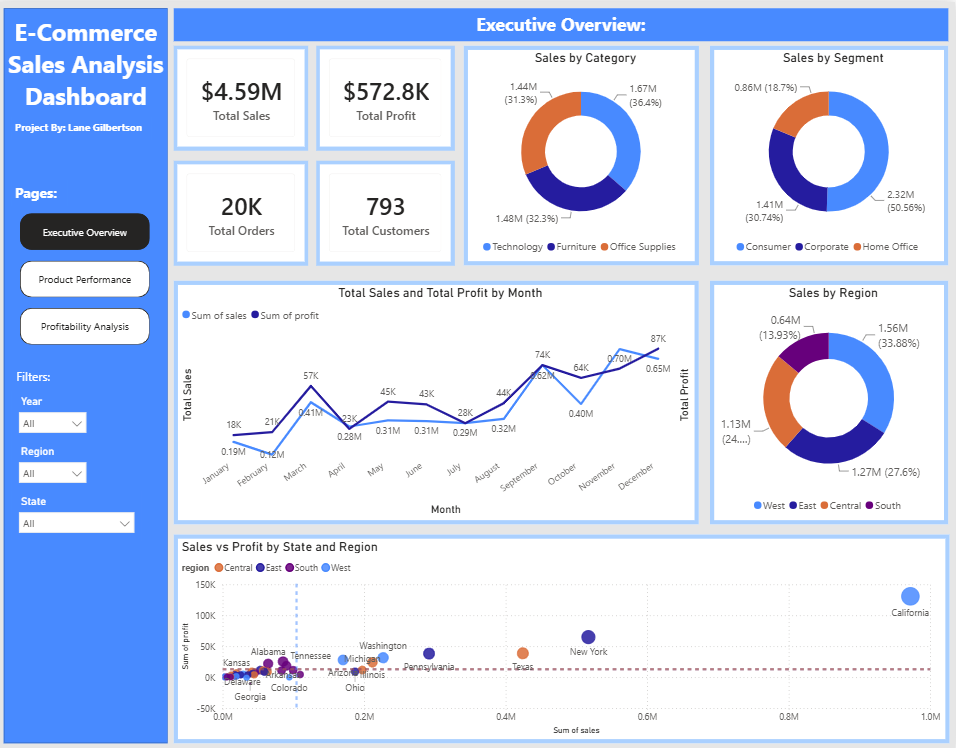

This screenshot's page, from the dashboard's own definition file:
{"tool":"powerbi","page":{"name":"Executive Overview","canvas":[1280,1000],"ordinal":0},"visuals":[{"type":"shape","box":[11.2,8.8,218.8,980],"z":0},{"type":"textbox","box":[11.2,13.8,218.8,152.5],"z":1000},{"type":"slicer","fields":{"Values":["public sales_analysis.order_date.Variation.Date Hierarchy.Year"]},"box":[22.3,519,110,66.2],"z":2000},{"type":"slicer","fields":{"Values":["public sales_analysis.region"]},"box":[22.3,585.2,110,66.2],"z":3000},{"type":"slicer","fields":{"Values":["public sales_analysis.state"]},"box":[22.3,651.5,173.8,66.2],"z":4000},{"type":"textbox","box":[21.9,237,75.3,35.6],"z":5000},{"type":"textbox","box":[21.2,153.8,187.5,31.2],"z":6000},{"type":"textbox","box":[23.6,482.7,66.2,36.2],"z":7000},{"type":"textbox","box":[238.8,8.8,1032.5,43.8],"z":8000},{"type":"lineChart","title":"Total Sales and Total Profit by Month","fields":{"Category":["public sales_analysis.order_date.Variation.Date Hierarchy.Month"],"Y":["Sum(public sales_analysis.sales)"],"Y2":["Sum(public sales_analysis.profit)"]},"box":[238.4,371.2,700,324.7],"z":10000},{"type":"cardVisual","fields":{"Data":["Sum(public sales_analysis.sales)"]},"box":[238.4,58.9,179.5,139.7],"z":11000},{"type":"cardVisual","fields":{"Data":["Sum(public sales_analysis.profit)"]},"box":[428.8,58.9,184.9,139.7],"z":12000},{"type":"donutChart","title":"Sales by Region","fields":{"Category":["public sales_analysis.region"],"Y":["Sum(public sales_analysis.sales)"]},"box":[953.4,371.2,317.8,324.7],"z":13000},{"type":"donutChart","title":"Sales by Category","fields":{"Category":["public sales_analysis.category"],"Y":["Sum(public sales_analysis.sales)"]},"box":[624.7,58.9,313.7,293.2],"z":14000},{"type":"donutChart","title":"Sales by Segment","fields":{"Category":["public sales_analysis.segment"],"Y":["Sum(public sales_analysis.sales)"]},"box":[953.4,58.9,317.8,293.2],"z":15000},{"type":"cardVisual","fields":{"Data":["CountNonNull(public sales_analysis.order_id)"]},"box":[238.4,212.3,179.5,139.7],"z":16000},{"type":"scatterChart","title":"Sales vs Profit by State and Region","fields":{"X":["Sum(public sales_analysis.sales)"],"Y":["Sum(public sales_analysis.profit)"],"Category":["public sales_analysis.state"],"Size":["Sum(public sales_analysis.profit)"],"Series":["public sales_analysis.region"]},"box":[238.4,709.6,1034.2,278.1],"z":17000},{"type":"cardVisual","fields":{"Data":["Count(public sales_analysis.customer_name)"]},"box":[428.8,212.3,184.9,139.7],"z":18000},{"type":"pageNavigator","box":[32.9,282.2,174,176.7],"z":19000}]}

Visuals, with their boxes in screenshot pixels (x1, y1, x2, y2), scaled from the page's 1280x1000 canvas onto the 956x748 screenshot:
shape: BBox(8, 7, 172, 740)
textbox: BBox(8, 10, 172, 124)
slicer - public sales_analysis.order_date.Variation.Date Hierarchy.Year: BBox(17, 388, 99, 438)
slicer - public sales_analysis.region: BBox(17, 438, 99, 487)
slicer - public sales_analysis.state: BBox(17, 487, 146, 537)
textbox: BBox(16, 177, 73, 204)
textbox: BBox(16, 115, 156, 138)
textbox: BBox(18, 361, 67, 388)
textbox: BBox(178, 7, 950, 39)
"Total Sales and Total Profit by Month" lineChart: BBox(178, 278, 701, 521)
cardVisual - Sum(public sales_analysis.sales): BBox(178, 44, 312, 149)
cardVisual - Sum(public sales_analysis.profit): BBox(320, 44, 458, 149)
"Sales by Region" donutChart: BBox(712, 278, 949, 521)
"Sales by Category" donutChart: BBox(467, 44, 701, 263)
"Sales by Segment" donutChart: BBox(712, 44, 949, 263)
cardVisual - CountNonNull(public sales_analysis.order_id): BBox(178, 159, 312, 263)
"Sales vs Profit by State and Region" scatterChart: BBox(178, 531, 950, 739)
cardVisual - Count(public sales_analysis.customer_name): BBox(320, 159, 458, 263)
pageNavigator: BBox(25, 211, 155, 343)
